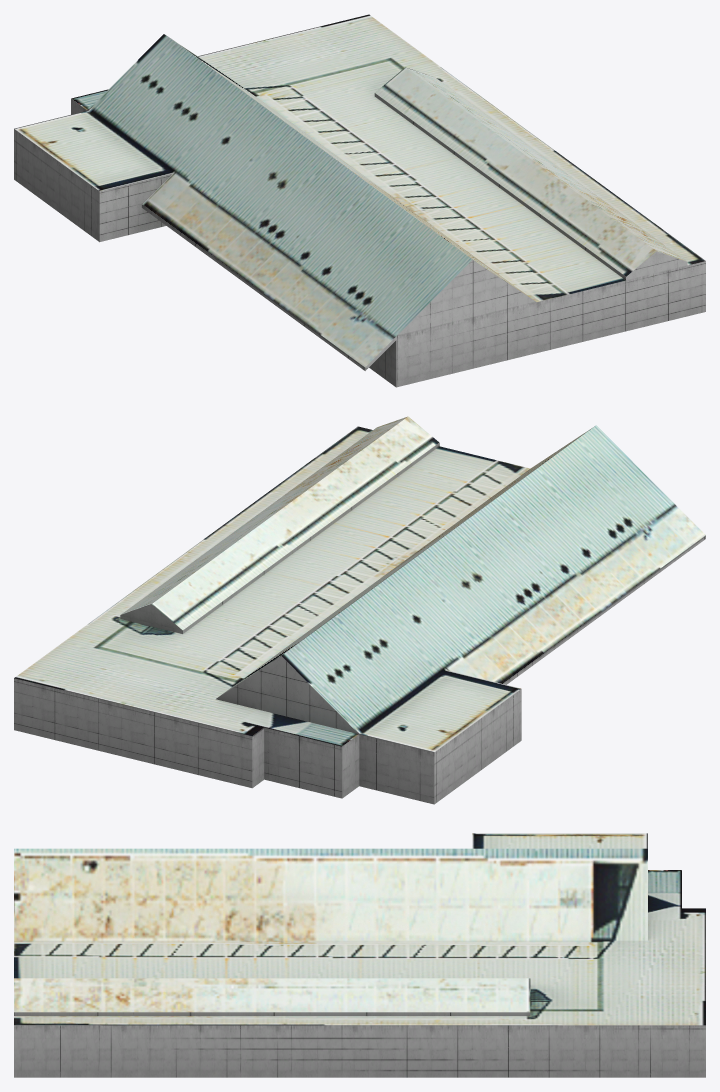
The model's file is Building13.gltf.
3 views of the same model, one above another, from view 1: azimuth 30°, elevation 25°; view 2: azimuth 150°, elevation 25°; view 3: azimuth 270°, elevation 25° (orthographic). The views are drawn at different scales.
Visible parts, largest first — view 1: Building13; view 2: Building13; view 3: Building13.
Boxes of the visible parts, x1,y1,x2,y2 form: Building13: [14, 14, 705, 387]; Building13: [14, 416, 705, 804]; Building13: [14, 833, 705, 1077].
Size of the model in its own units: 55.19 by 15 by 83.96.
Materials: 1 (1 with a texture image).
